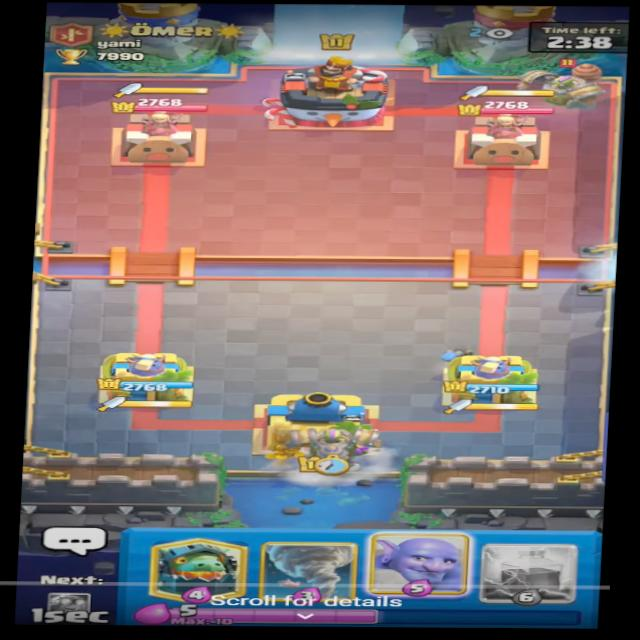goblin-machine: (517, 59, 605, 118)
